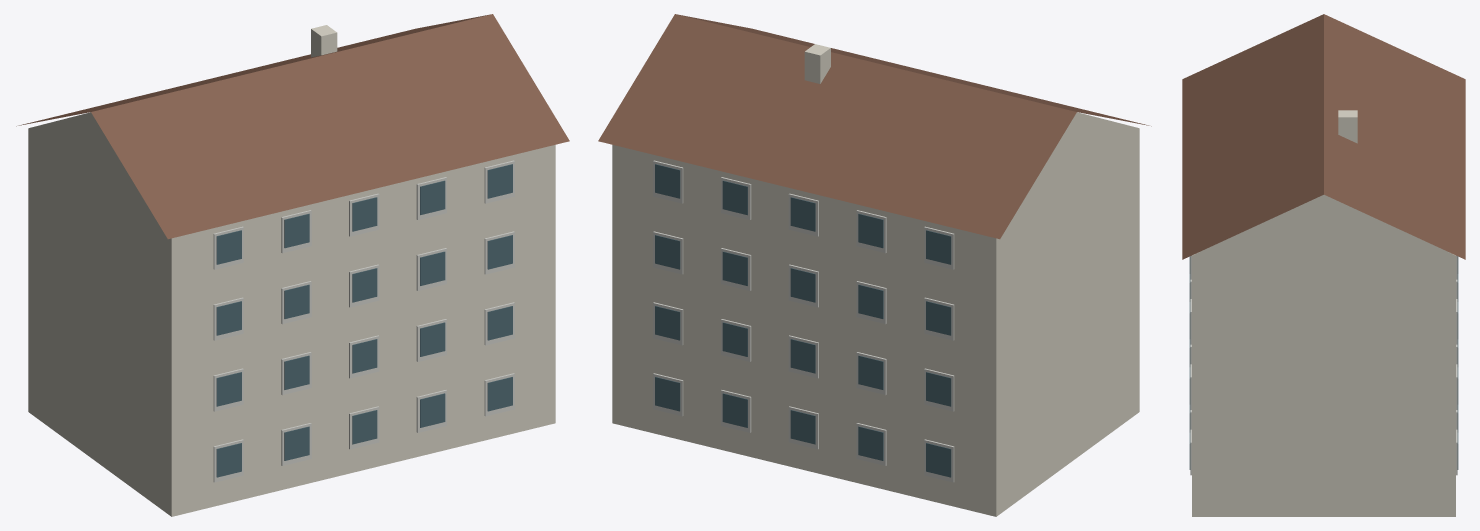
File: House_2_LOD2.glb
3 views of the same model, side by side, from view 1: azimuth 30°, elevation 25°; view 2: azimuth 150°, elevation 25°; view 3: azimuth 270°, elevation 25° (orthographic). The views are drawn at different scales.
Visible parts, largest first — view 1: House_2_LOD2; view 2: House_2_LOD2; view 3: House_2_LOD2.
Boxes of the visible parts, x1,y1,x2,y2 form: House_2_LOD2: [16, 14, 569, 516]; House_2_LOD2: [598, 14, 1151, 516]; House_2_LOD2: [1182, 14, 1465, 516].
Bounding box in the file's own units: 17.8 × 15.5 × 11.8.
